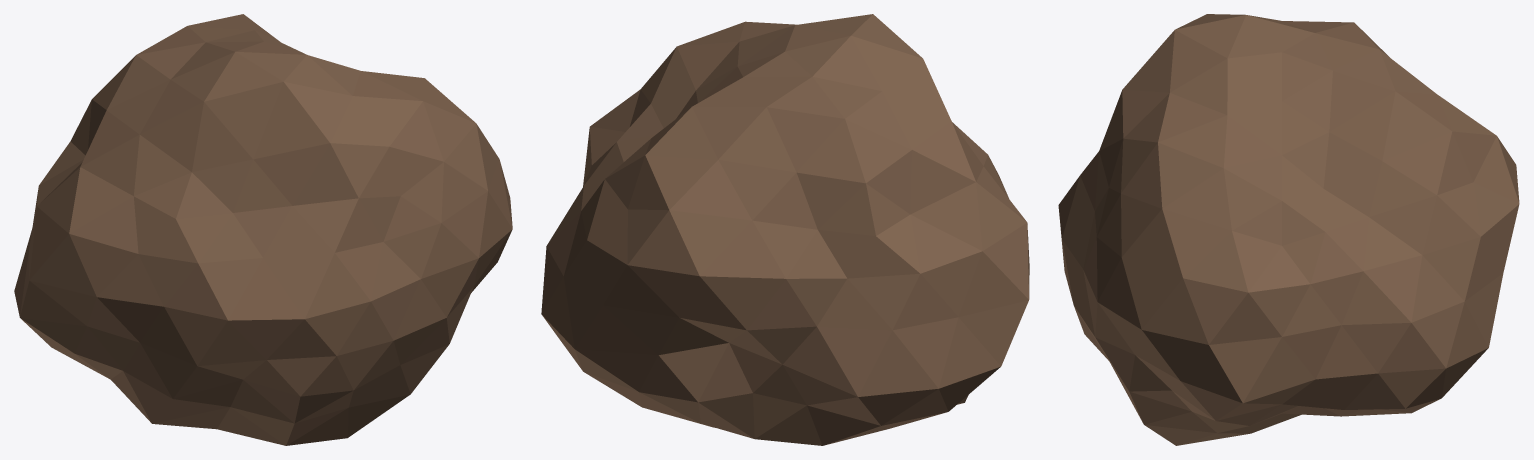
The model's file is asteroid_a.glb.
3 renders of one model, left to right at view 1: azimuth 30°, elevation 25°; view 2: azimuth 150°, elevation 25°; view 3: azimuth 270°, elevation 25°, orthographic. The views are drawn at different scales.
Parts seen in each view (by area): view 1: rock; view 2: rock; view 3: rock.
Part boxes in pixels (left/top/right/bottom): rock: left=14, top=14, right=512, bottom=445; rock: left=541, top=14, right=1029, bottom=445; rock: left=1058, top=14, right=1519, bottom=445.
Size of what is drawn, in the model's own units: 11.34 by 9.2 by 9.81.
